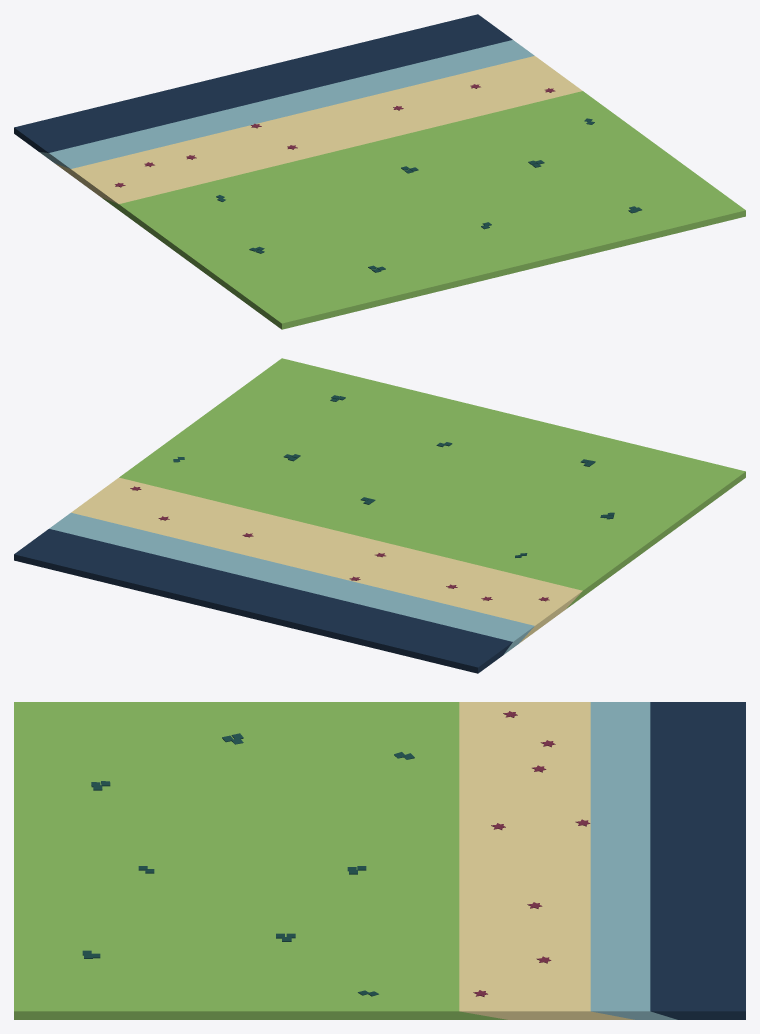
Rendered from Ground with Seastars.fbx.
3 renders of one model, top to bottom at view 1: azimuth 30°, elevation 25°; view 2: azimuth 150°, elevation 25°; view 3: azimuth 270°, elevation 25°, orthographic. The views are drawn at different scales.
Parts seen in each view (by area): view 1: Plane.000; view 2: Plane.000; view 3: Plane.000, Icosphere.002.
Part boxes in pixels (box(x1,y1,x2,y2)): Plane.000: box(14, 14, 745, 329); Plane.000: box(14, 358, 745, 673); Plane.000: box(14, 702, 745, 1019); Icosphere.002: box(473, 711, 590, 996).
Size of the model in its own units: 3040 by 48.83 by 3040.
